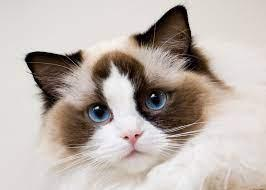ragdoll: (19, 1, 221, 190)
